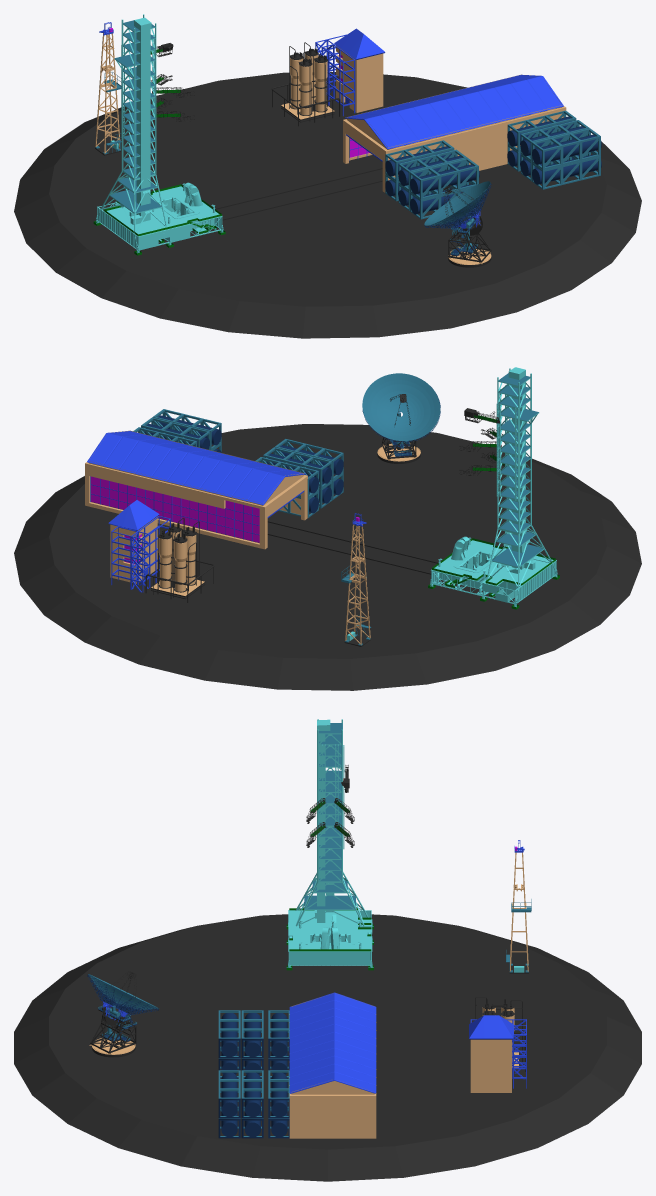
File: Small.FBX
3 views of the same model, one above another, from view 1: azimuth 30°, elevation 25°; view 2: azimuth 150°, elevation 25°; view 3: azimuth 270°, elevation 25° (orthographic).
Parts seen in each view (by area): view 1: Cosmodrome_Small, LaunchPad, quad, azimuth; view 2: Cosmodrome_Small, LaunchPad, quad, azimuth; view 3: Cosmodrome_Small, LaunchPad, quad, azimuth.
Part boxes in pixels (x1,y1,x2,y2): Cosmodrome_Small: (14, 22, 641, 338); LaunchPad: (93, 14, 225, 255); quad: (424, 181, 491, 235); azimuth: (448, 216, 491, 263); Cosmodrome_Small: (14, 409, 641, 690); LaunchPad: (428, 367, 559, 609); quad: (362, 373, 440, 442); azimuth: (381, 412, 416, 460); Cosmodrome_Small: (14, 840, 641, 1181); LaunchPad: (286, 719, 373, 970); quad: (87, 971, 158, 1025); azimuth: (89, 1005, 136, 1054).
Bounding box in the file's own units: 103 × 41.84 × 102.
